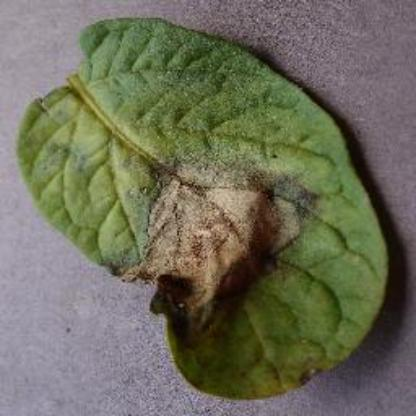Late-Blight: (17, 14, 396, 400)
